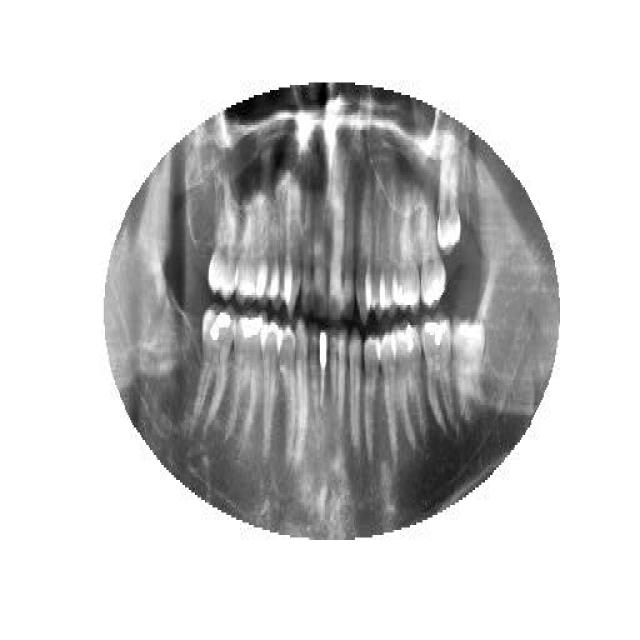Fillings: (224, 310, 268, 445), (192, 305, 236, 437), (392, 322, 427, 450), (421, 310, 454, 435), (418, 202, 448, 310), (390, 208, 421, 310)
Impacted Tooth: (435, 132, 463, 260)
Implant: (317, 325, 328, 413)
